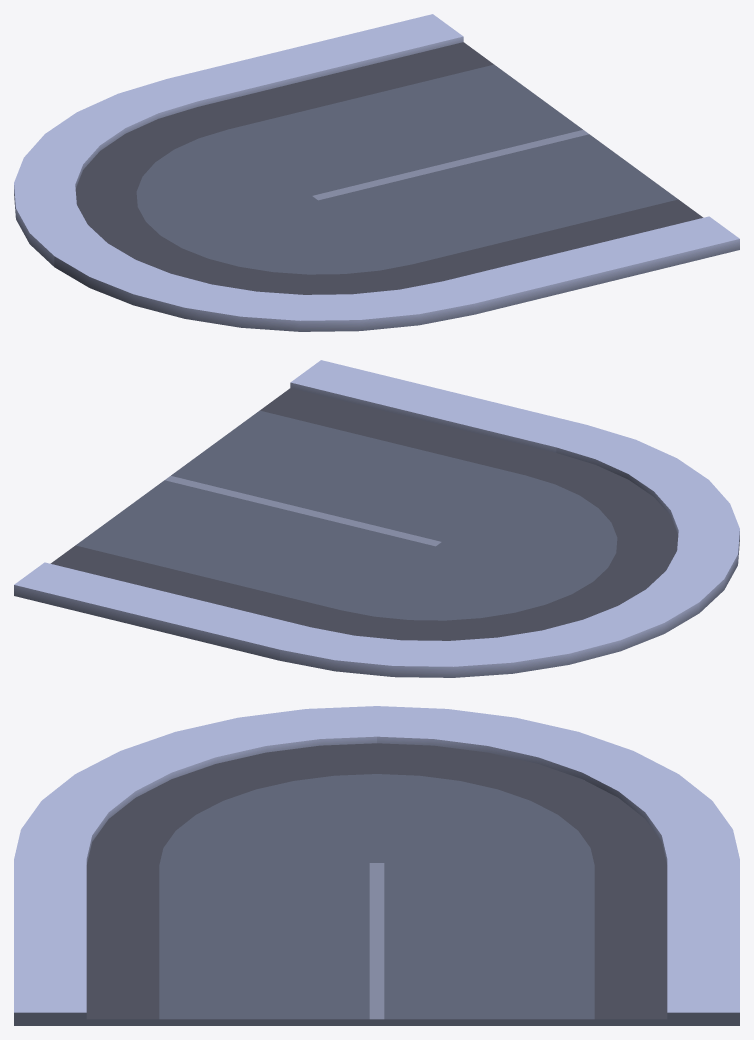
File: road-end-round.glb
The picture shows the model from 3 angles, top to bottom: view 1: azimuth 30°, elevation 25°; view 2: azimuth 150°, elevation 25°; view 3: azimuth 270°, elevation 25°; orthographic projection. The views are drawn at different scales.
Parts seen in each view (by area): view 1: road-end-round; view 2: road-end-round; view 3: road-end-round.
Boxes of the visible parts, x1,y1,x2,y2 form: road-end-round: (14, 14, 739, 331); road-end-round: (14, 360, 739, 677); road-end-round: (14, 706, 739, 1025).
Bounding box in the file's own units: 1 × 0.02 × 1.
Materials: 1 (1 with a texture image).
